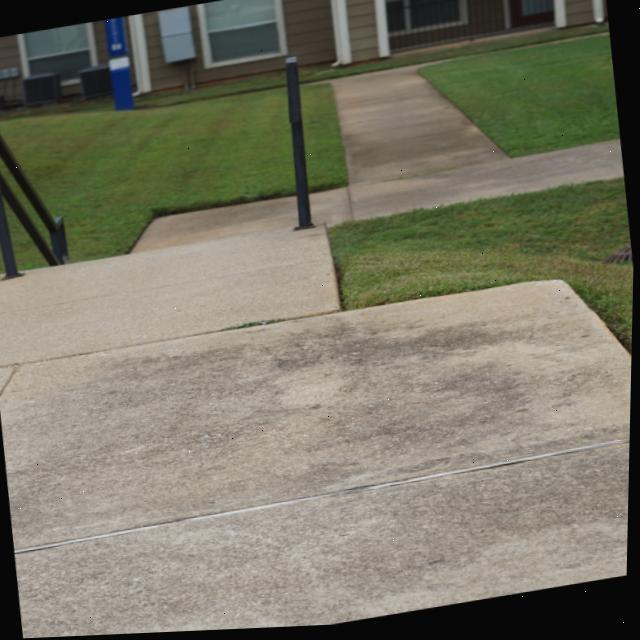Obstacle: (0, 132, 69, 265), (0, 170, 59, 266), (286, 59, 316, 233), (0, 180, 22, 278)
Sidewalk: (0, 286, 633, 549), (17, 448, 632, 639), (0, 227, 340, 367), (349, 145, 625, 223), (331, 69, 508, 189), (132, 199, 298, 254), (311, 191, 351, 227), (0, 367, 15, 396)
